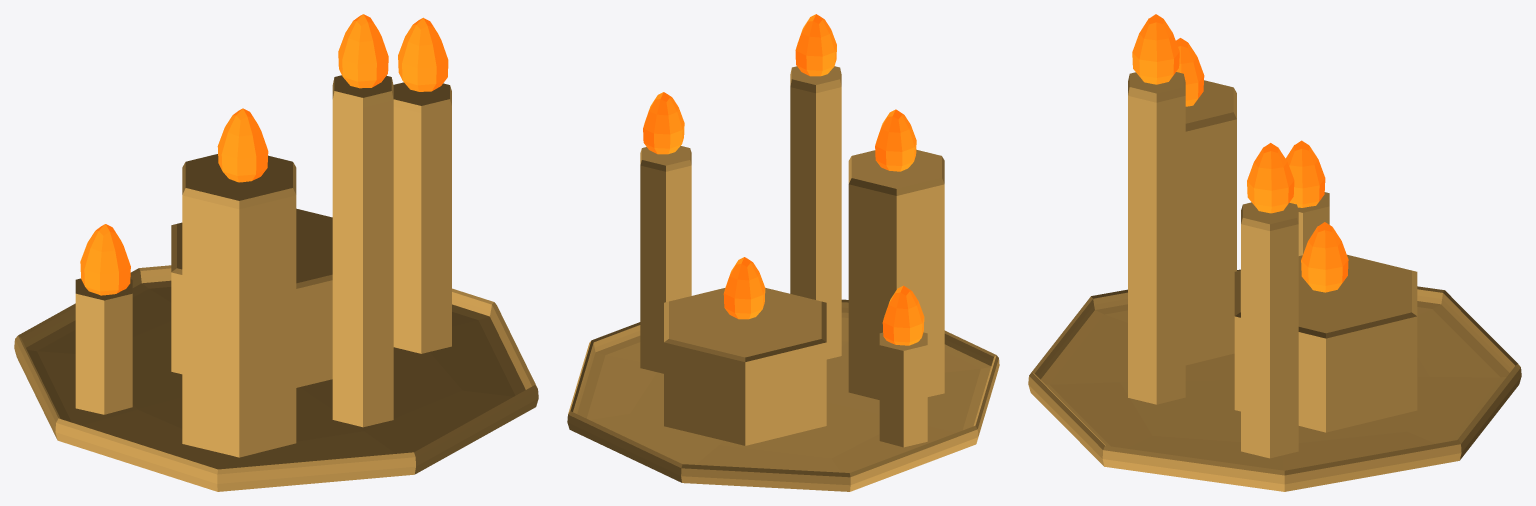
Rendered from Candle Holder 1.fbx.
3 renders of one model, left to right at view 1: azimuth 30°, elevation 25°; view 2: azimuth 150°, elevation 25°; view 3: azimuth 270°, elevation 25°, orthographic. The views are drawn at different scales.
Parts seen in each view (by area): view 1: 2, Node 3, Node 4, Node 2, Node 1; view 2: 2, Node 4, Node 0, Node 3, Node 2, Node 1; view 3: 2, Node 3, Node 0, Node 4, Node 1, Node 2.
Boxes of the visible parts, x1,y1,x2,y2 form: 2: (14,75,538,491); Node 3: (338,14,388,88); Node 4: (398,17,448,91); Node 2: (217,108,268,182); Node 1: (80,224,130,295); 2: (567,66,999,491); Node 4: (643,92,684,154); Node 0: (723,257,765,319); Node 3: (795,14,836,76); Node 2: (875,109,916,171); Node 1: (882,285,924,345); 2: (1028,72,1521,491); Node 3: (1132,14,1179,84); Node 0: (1301,222,1348,292); Node 4: (1247,143,1294,213); Node 1: (1285,140,1325,207); Node 2: (1176,38,1204,106).
Bounding box in the file's own units: 0.5726 × 0.5024 × 0.5726.
